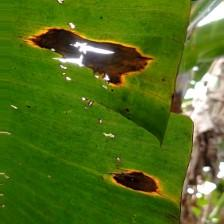cordana: (0, 0, 194, 224)
